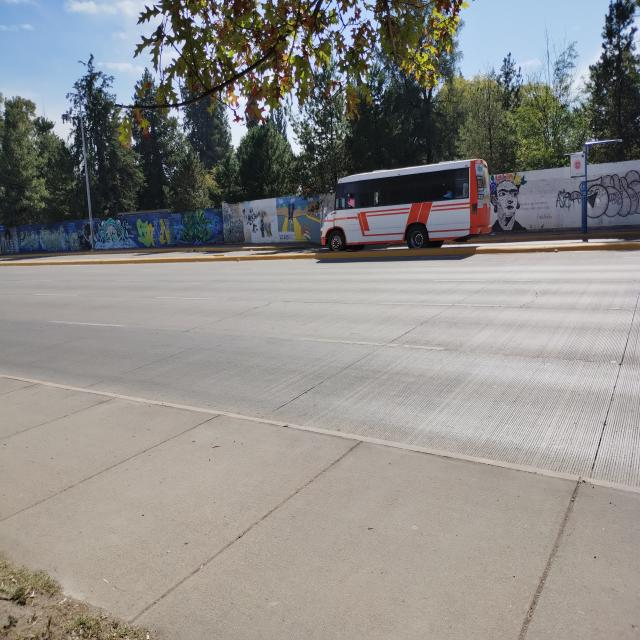Autobus: (319, 158, 491, 254)
